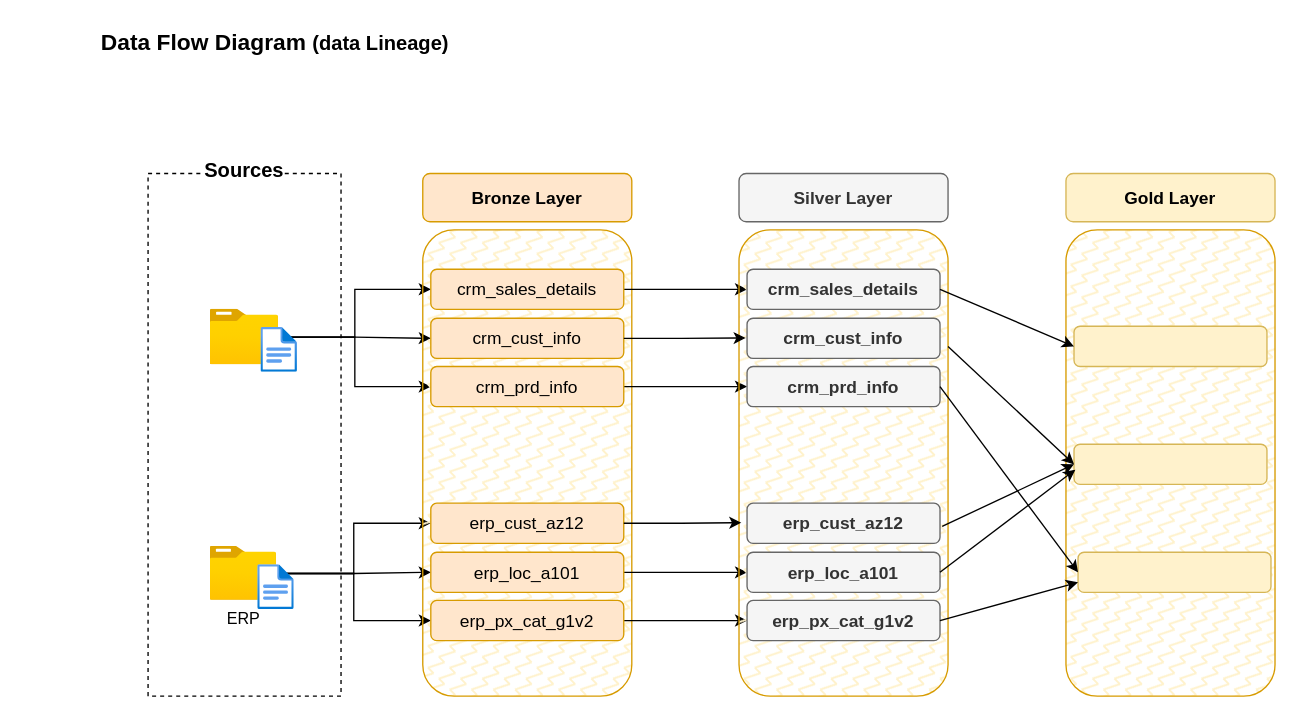
This 1298x720 diagram has some shape labels left out. Here are the shapes that lost their labels. From the top down, the centre of each, then its label:
[244,336]: CRM
[1170,345]: fact_sales
[1170,463]: dim_customers
[1174,571]: dim_products
